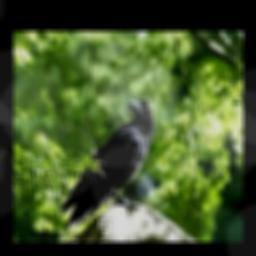Crow: (59, 96, 154, 239)
